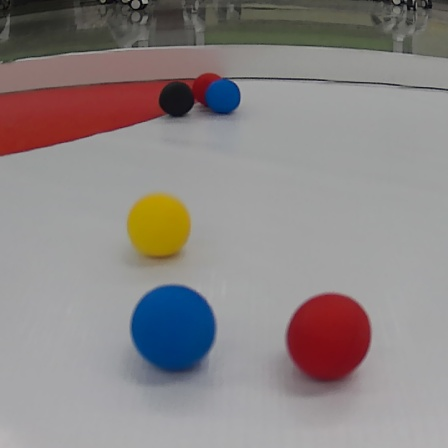black: (161, 79, 195, 125)
blue: (129, 284, 217, 371), (208, 82, 241, 117)
red: (285, 292, 372, 382), (197, 67, 221, 99)
red_base: (2, 75, 211, 160)
yellow: (126, 190, 191, 260)
